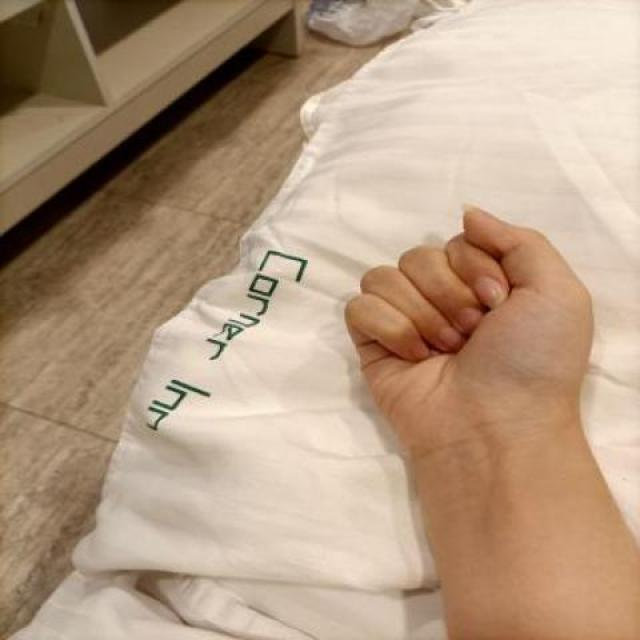fist: (345, 194, 604, 446)
